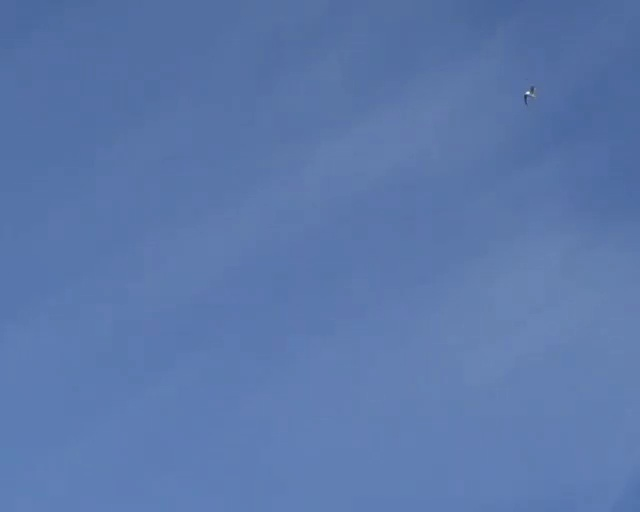BIRD: (523, 85, 536, 105)
